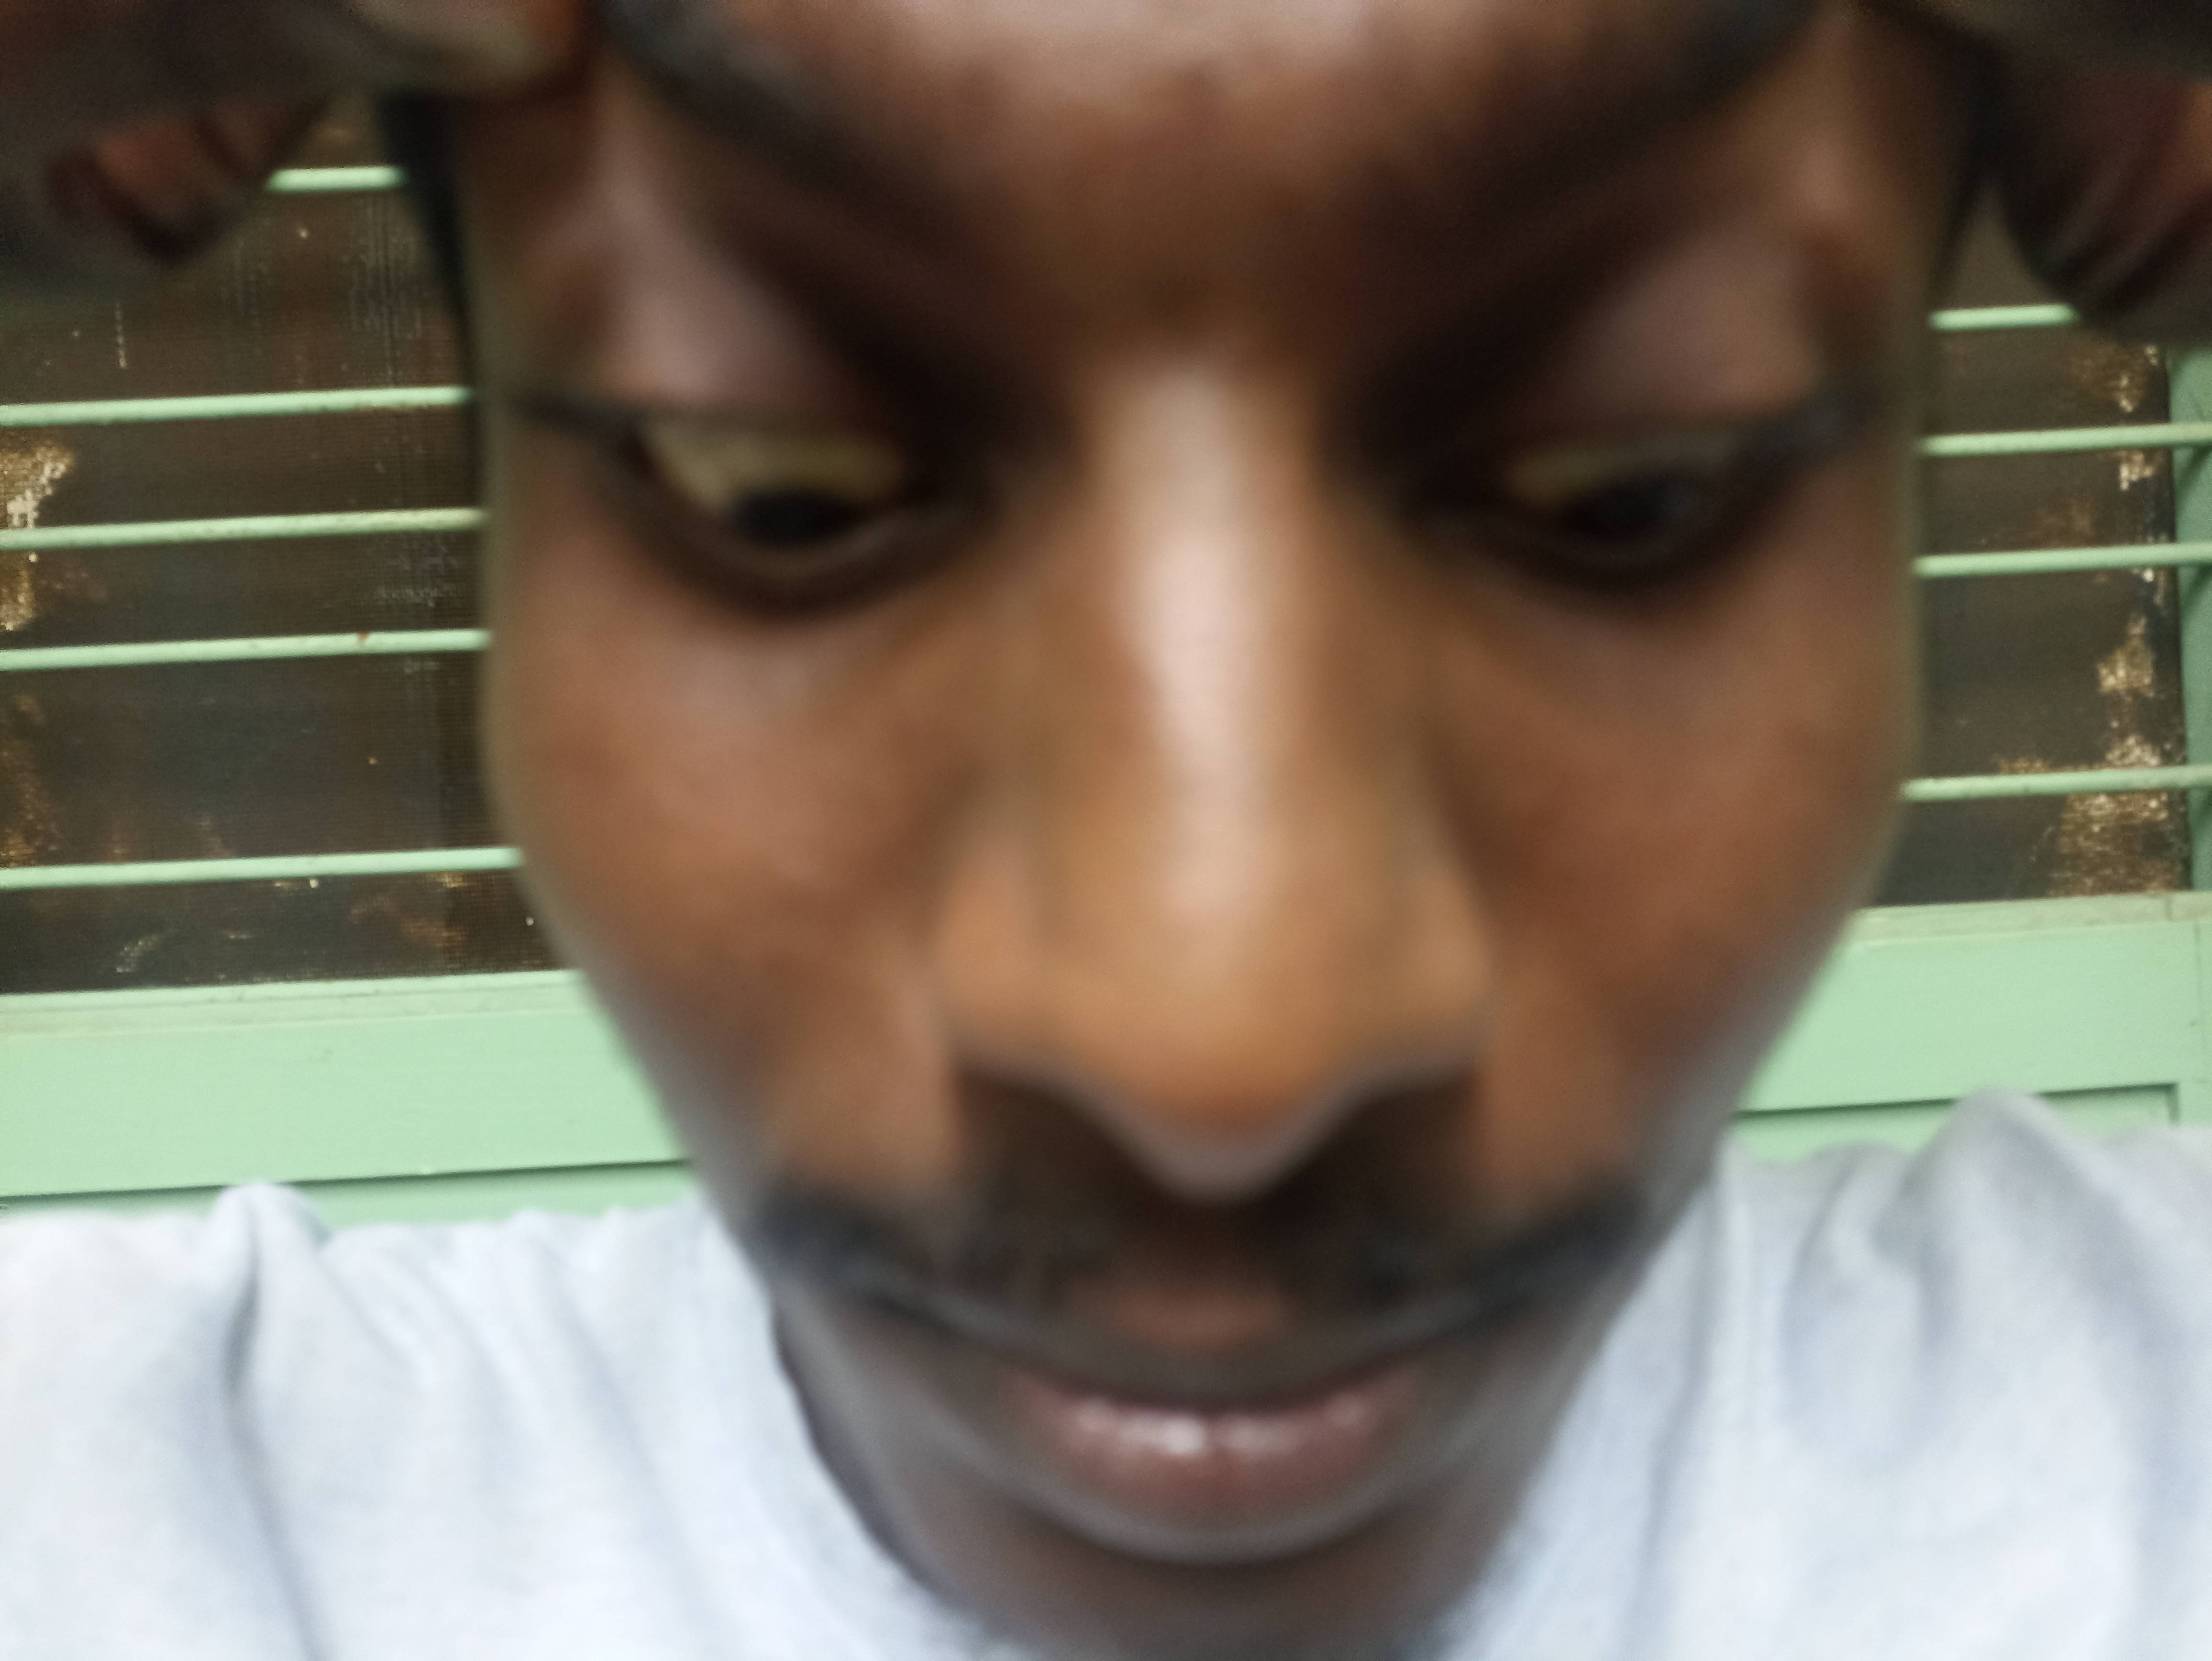EYE DOWN: (368, 150, 1026, 722), (1343, 194, 1973, 762)
